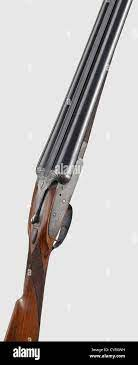weapon: (2, 1, 138, 341)
